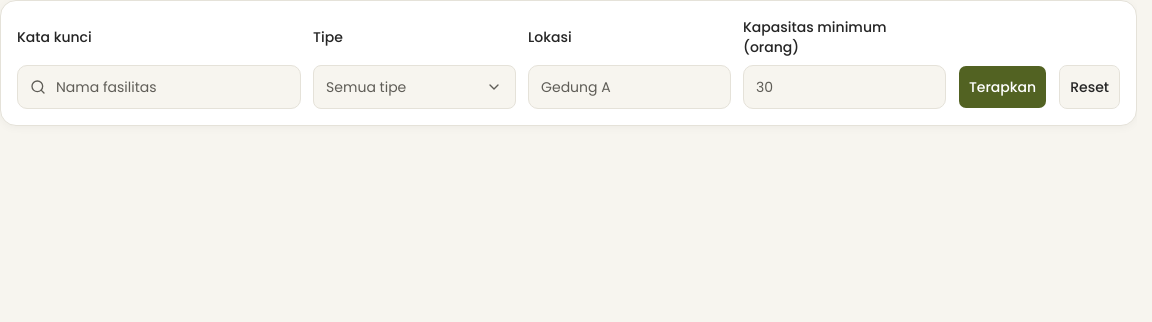
Test: FacilityFilterForm › mengembalikan filter tipe ke semua tipe lewat tombol hapus
The width and height of the screenshot is (1152, 322).
Click the dropdown labelled "tipe" at (415,87), box [313, 65, 516, 109]
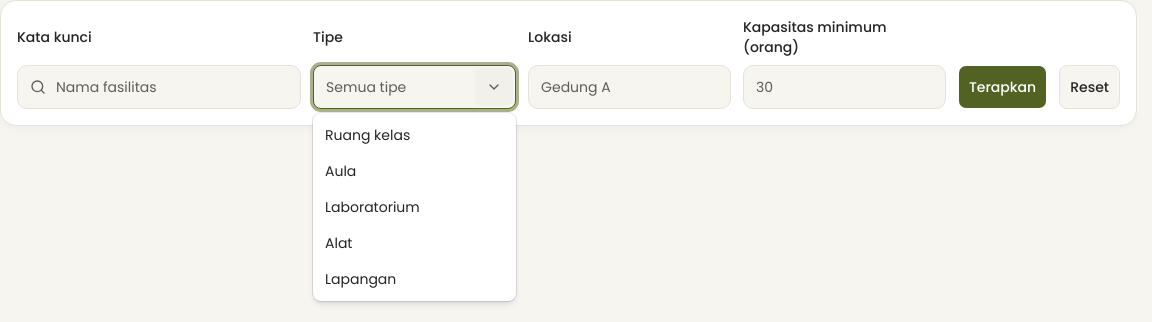
Click the option "Alat" at (339,243), box [325, 233, 352, 253]
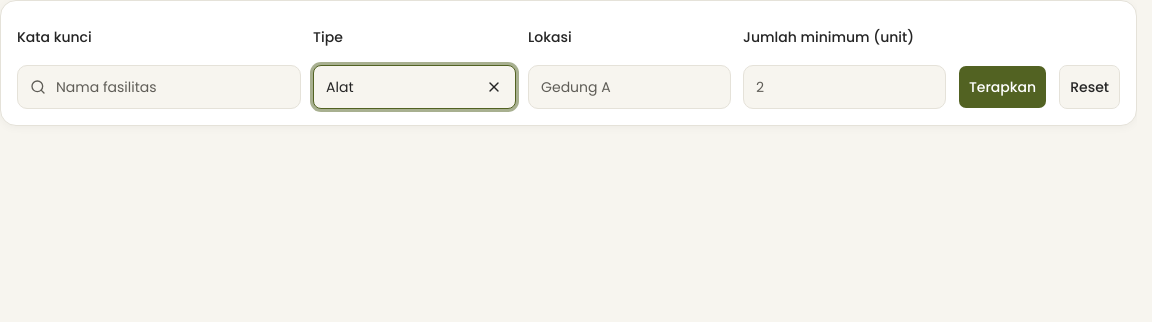
Expected: the element named "type" holds "alat", [313, 17, 516, 109]
Click the button named "Hapus pilihan tipe" at (494,87), box [474, 67, 514, 107]
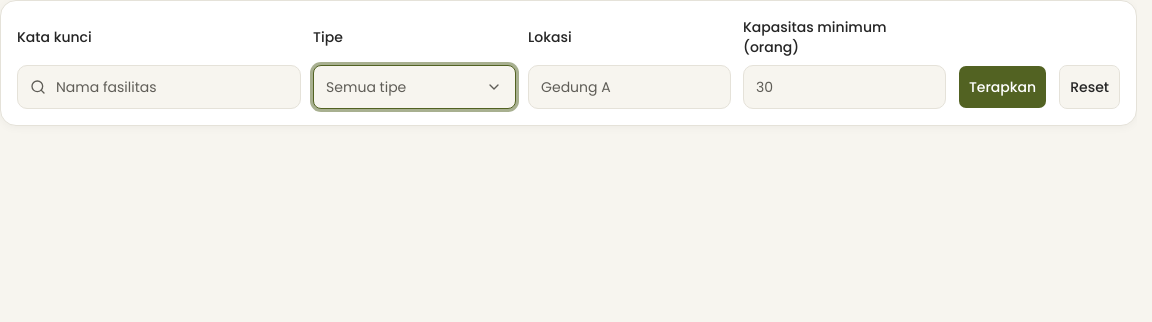
Expected: the element named "type" is empty, [313, 17, 516, 109]
Expected: the dropdown labelled "tipe" is empty, [313, 65, 516, 109]
Expected: the number field named "Kapasitas minimum (orang)" is shown, [756, 77, 933, 97]
